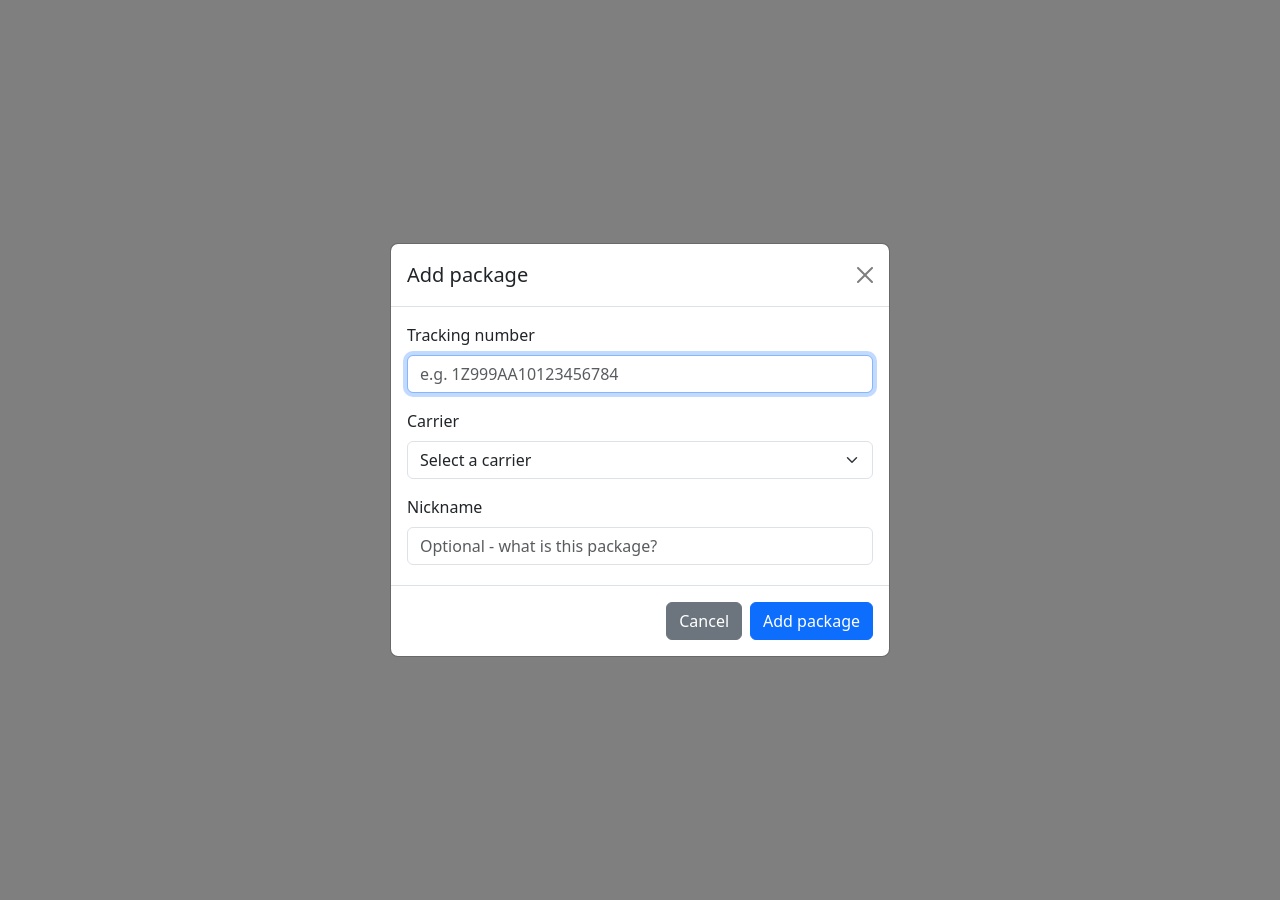
AddPackageModal › on EXCLUDED, shows the warning alert with a link to /settings/exclusions and preserves form values
In the field labelled "Tracking number": point(640, 374) [407,355,873,393], type "774988123312"
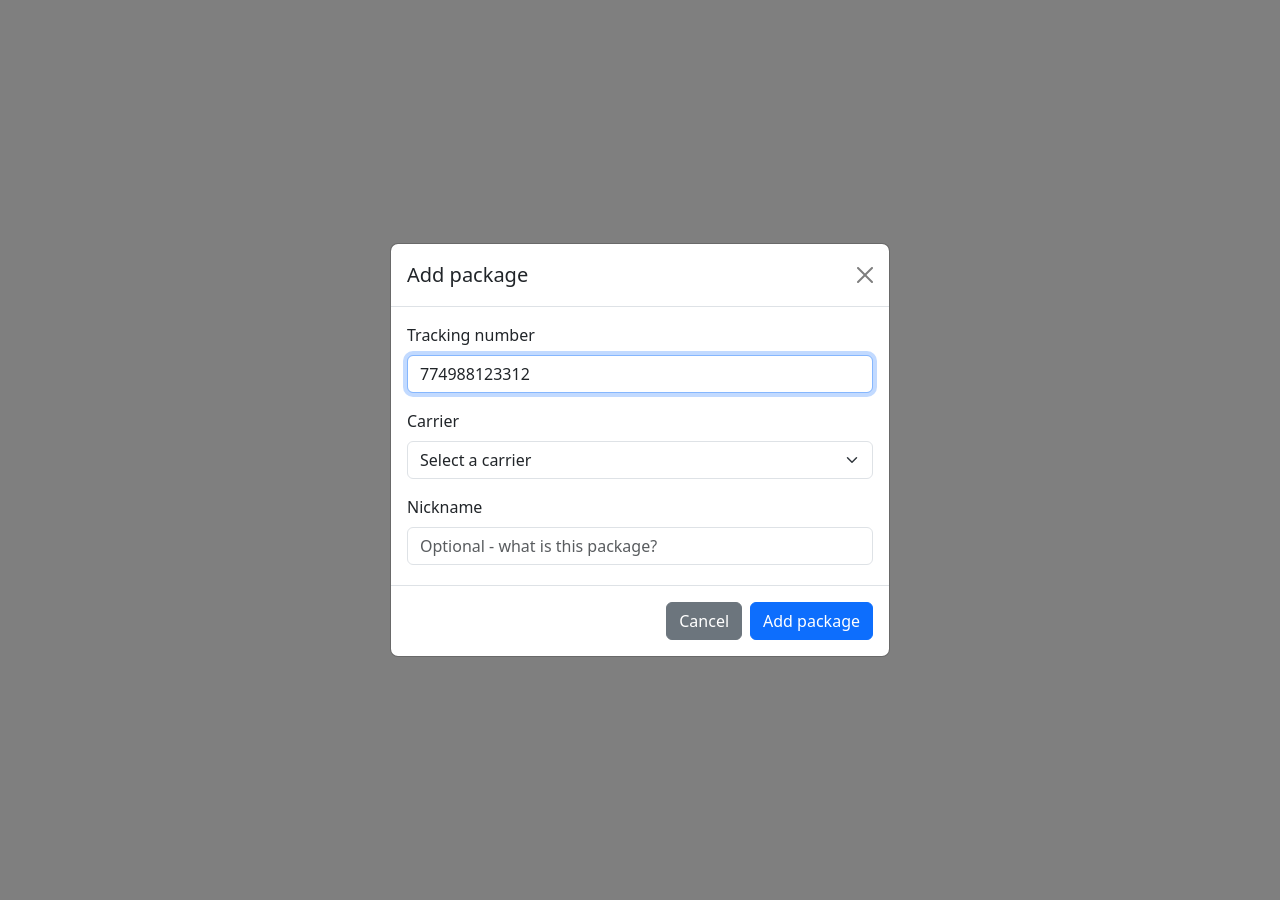
Press Tab
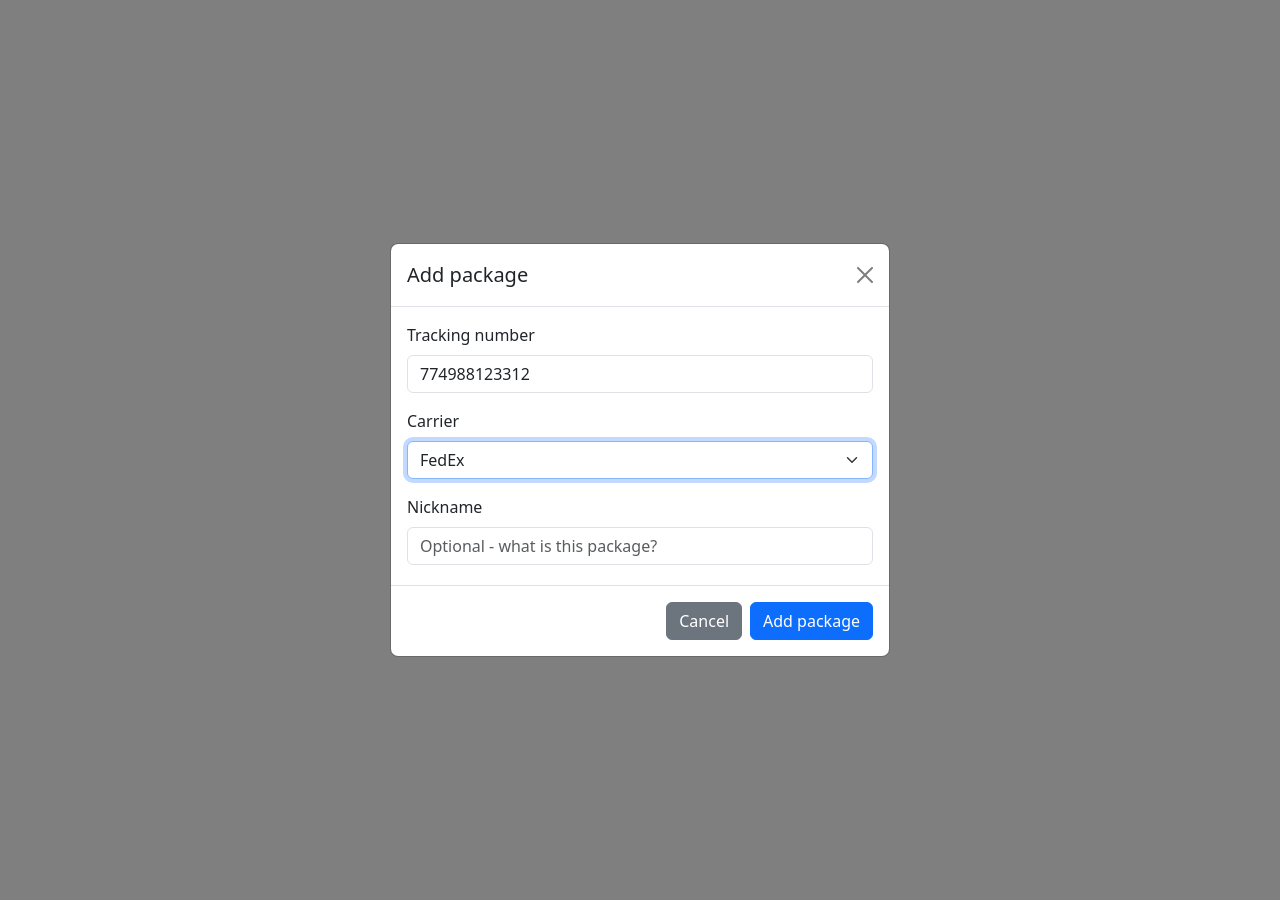
Click the button "Add package": point(812, 621) [750,602,873,640]
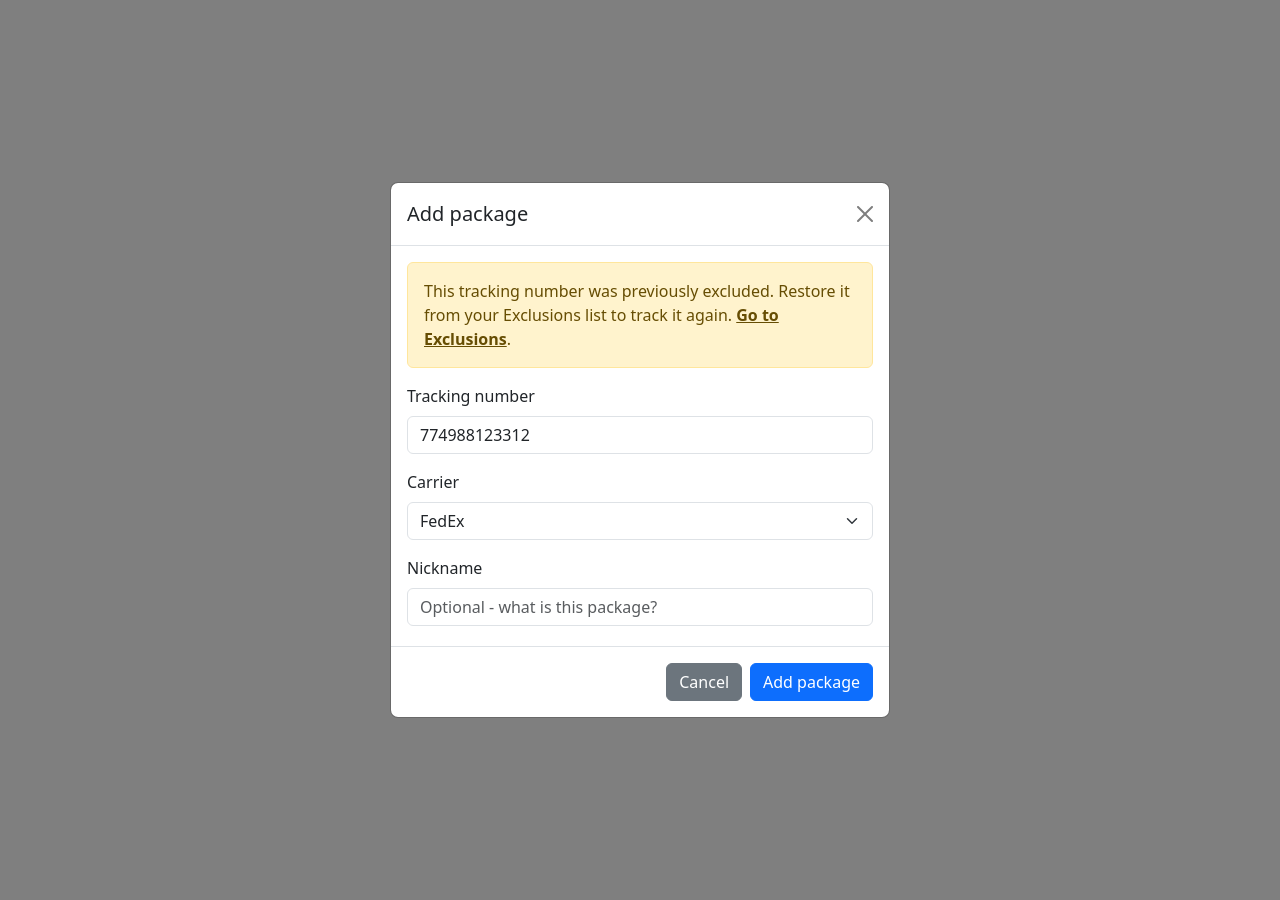
Expected: the dropdown labelled "Carrier" shows "FedEx", [407,502,873,540]
Expected: the message shows "previously excluded", [424,280,850,326]
